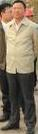boots: (0, 123, 19, 131), (0, 111, 8, 118)
